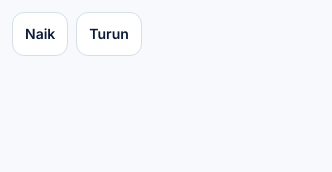
MoveButtons › shows the reason when the action refuses
Click the button "Naik".
click(40, 34)  # box [12,12,68,56]
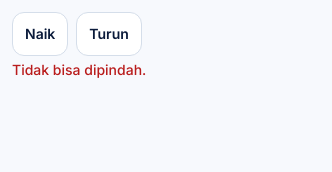
Expected: the message reads "Tidak bisa dipindah.", [12,61,146,78]
